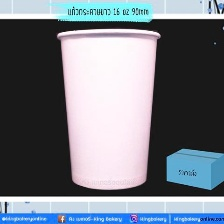paper_cup: (51, 24, 164, 193)
